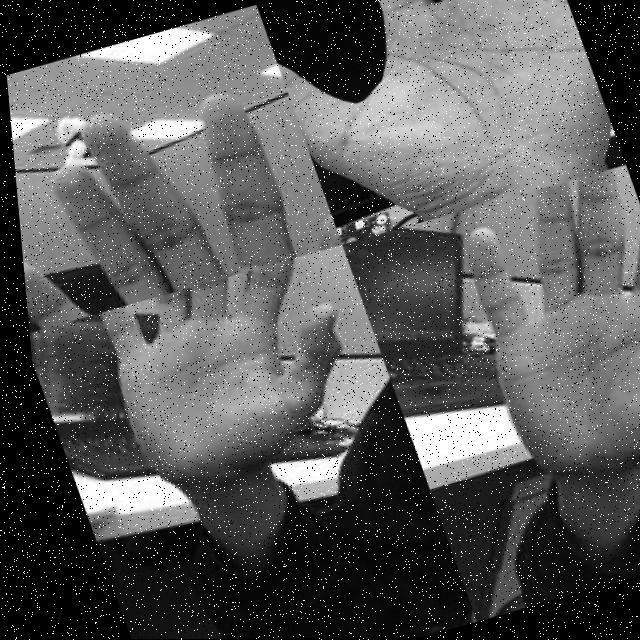hand: (255, 0, 627, 245), (5, 65, 343, 334), (73, 250, 381, 497), (424, 164, 640, 494)
